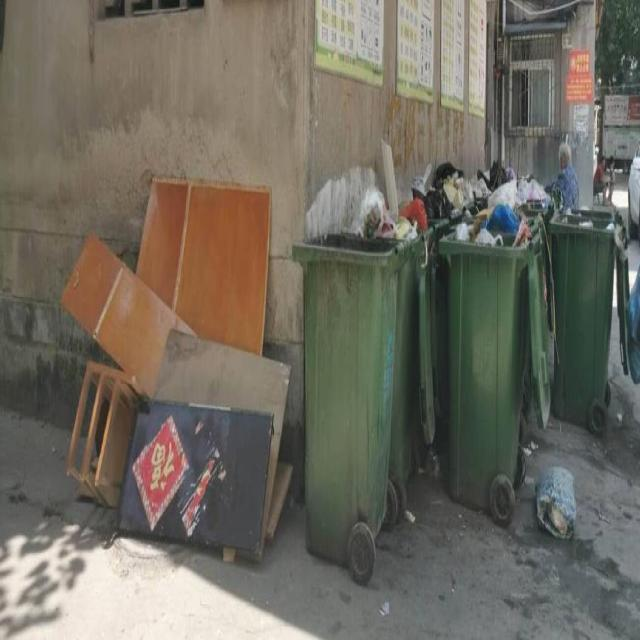garbage: (535, 459, 577, 539)
garbage_bin: (291, 230, 407, 570), (551, 208, 614, 422)
overflow: (437, 158, 551, 514), (358, 140, 437, 488)
